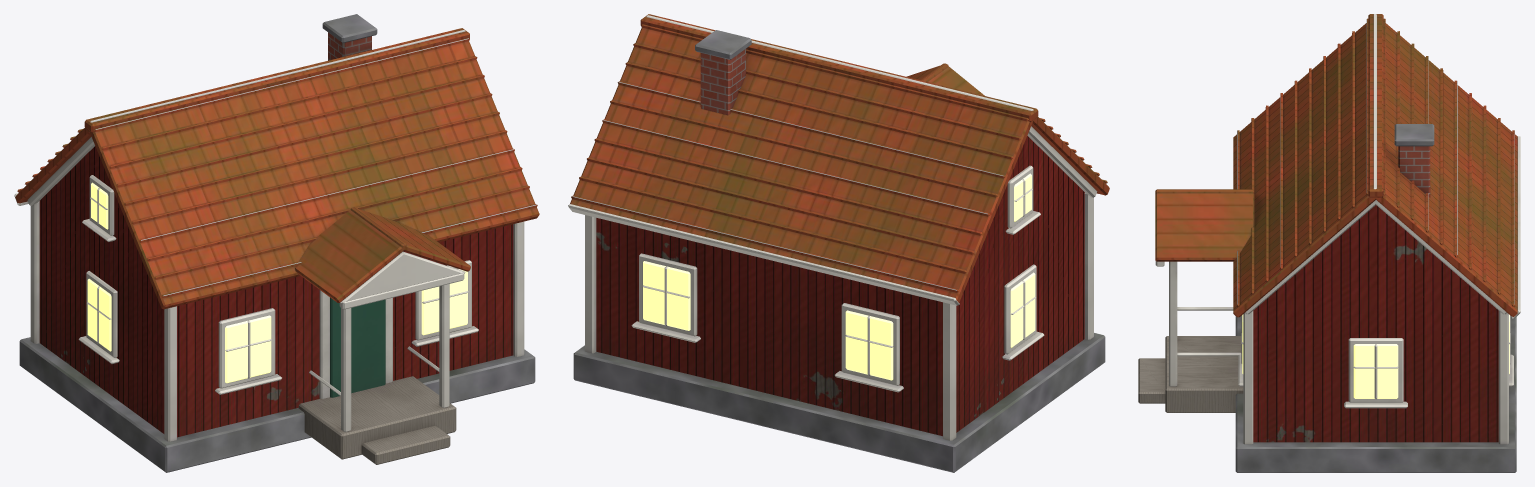
File: rodstuga_tex.glb
3 views of the same model, side by side, from view 1: azimuth 30°, elevation 25°; view 2: azimuth 150°, elevation 25°; view 3: azimuth 270°, elevation 25° (orthographic). The views are drawn at different scales.
Parts seen in each view (by area): view 1: rodstuga; view 2: rodstuga; view 3: rodstuga.
Part boxes in pixels (box(x1,y1,x2,y2)): rodstuga: box(14, 14, 539, 472); rodstuga: box(568, 14, 1109, 472); rodstuga: box(1138, 14, 1520, 472).
Size of the model in its own units: 6.55 by 5.16 by 5.99.
8 materials, 7 textured.
